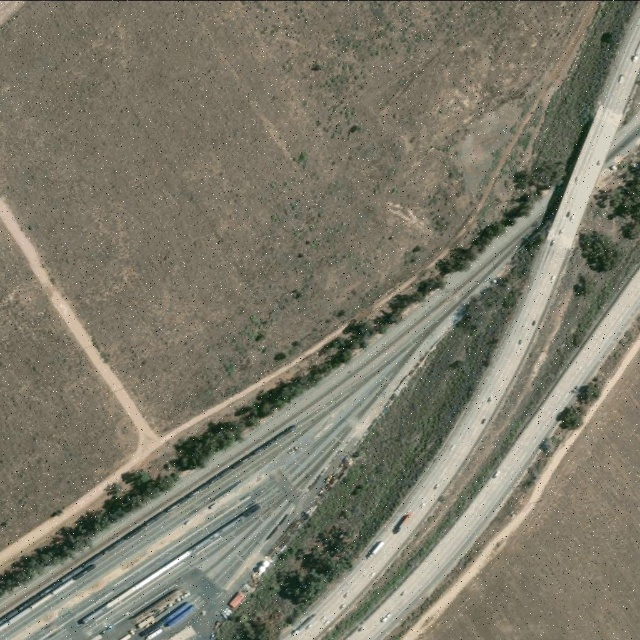vegetation: (0, 0, 640, 600), (213, 224, 552, 640), (316, 281, 624, 640), (516, 373, 603, 491), (571, 157, 640, 294)
